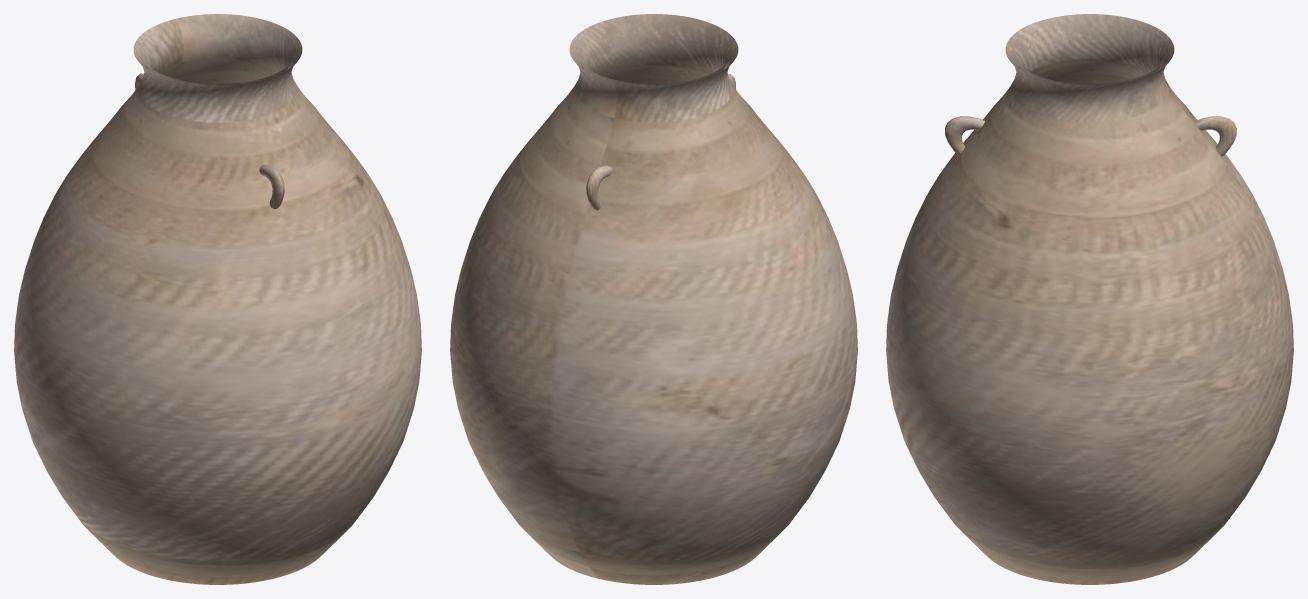
Rendered from 汉代陶瓷罐2.FBX.
The picture shows the model from 3 angles, left to right: view 1: azimuth 30°, elevation 25°; view 2: azimuth 150°, elevation 25°; view 3: azimuth 270°, elevation 25°; orthographic projection.
Visible parts, largest first — view 1: Cylinder001, 对象001; view 2: Cylinder001, Torus001; view 3: Cylinder001, Torus001, 对象001.
Boxes of the visible parts, x1,y1,x2,y2 form: Cylinder001: [14, 14, 421, 584]; 对象001: [259, 165, 284, 208]; Cylinder001: [450, 14, 857, 584]; Torus001: [586, 165, 612, 210]; Cylinder001: [886, 14, 1293, 584]; Torus001: [1195, 116, 1236, 156]; 对象001: [945, 116, 984, 155].
Size of the model in its own units: 68.02 by 89.84 by 68.01.
